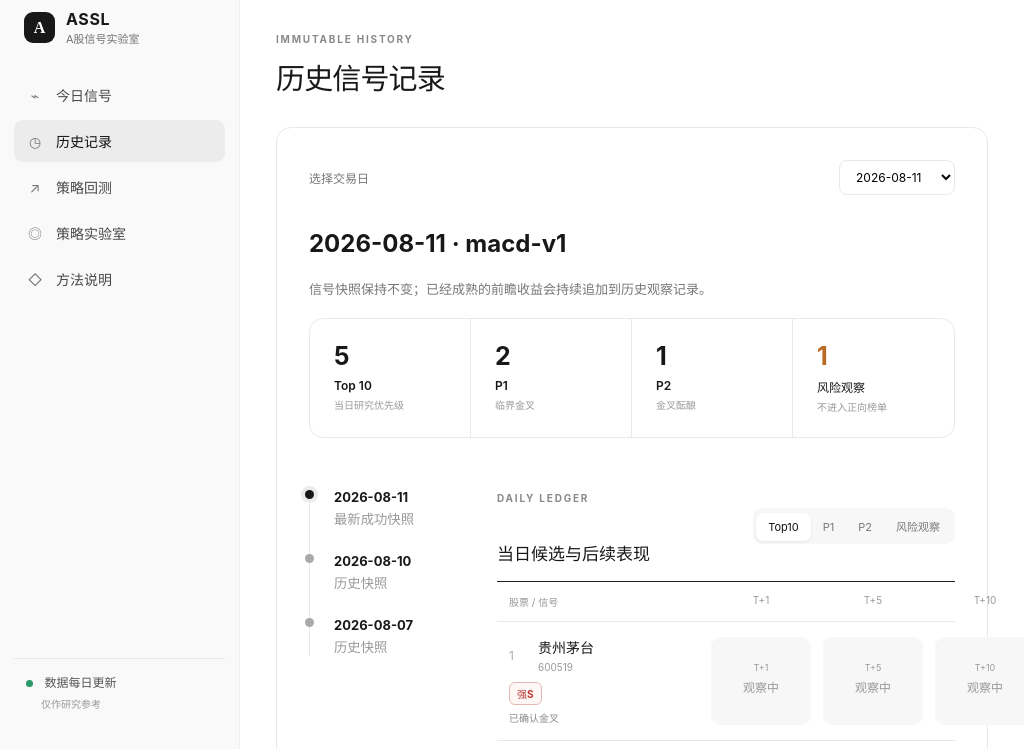
Test case: ASSL dashboard › shows a selected historical list with per-stock matured outcomes
Select "2026-08-10" in the dropdown labelled "选择交易日" at (897, 178), box 839,160 -> 955,195
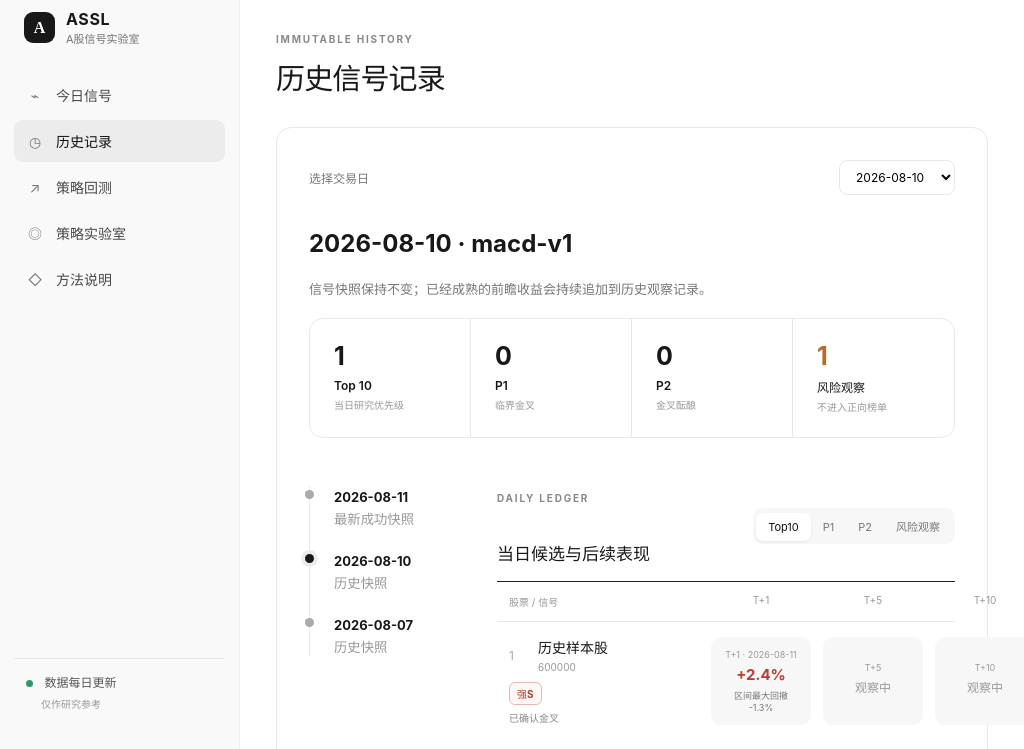
Expected: the text "历史样本股" is shown, 538,639 -> 608,656
Expected: the text "600000" is shown, 538,661 -> 576,673
Expected: the text "+2.4%" is shown, 736,665 -> 786,684
Click the button "风险观察" at (918, 526), box 884,510 -> 952,540
(page scrolled)
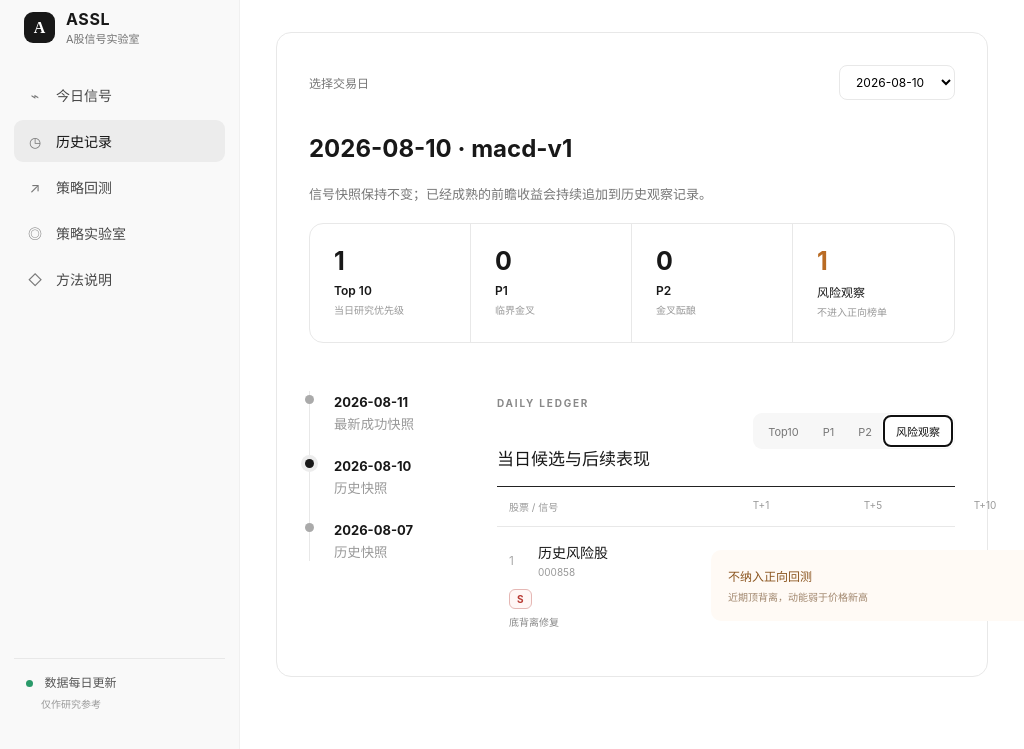
Expected: the text "历史风险股" is shown, 538,544 -> 608,561
Expected: the text "不纳入正向回测" is shown, 728,569 -> 812,584
